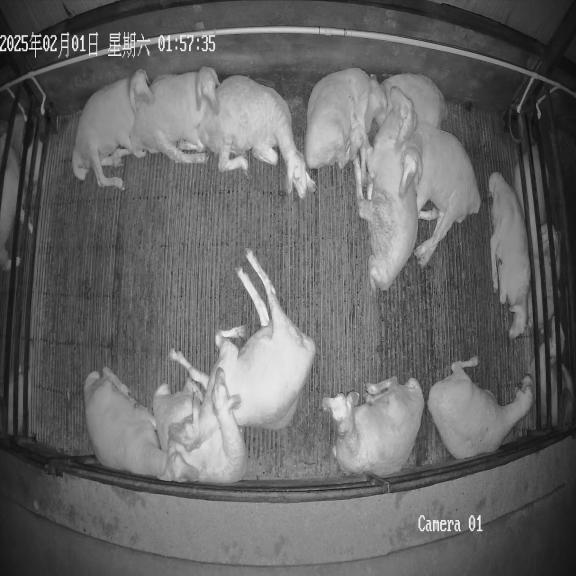lying: (169, 250, 316, 451), (199, 75, 315, 198), (84, 367, 199, 482), (354, 86, 418, 290), (399, 123, 480, 267), (428, 356, 534, 459), (153, 369, 247, 483), (322, 377, 425, 478), (72, 70, 152, 188), (131, 67, 220, 163), (488, 172, 530, 339), (305, 68, 370, 169), (364, 73, 446, 133)
